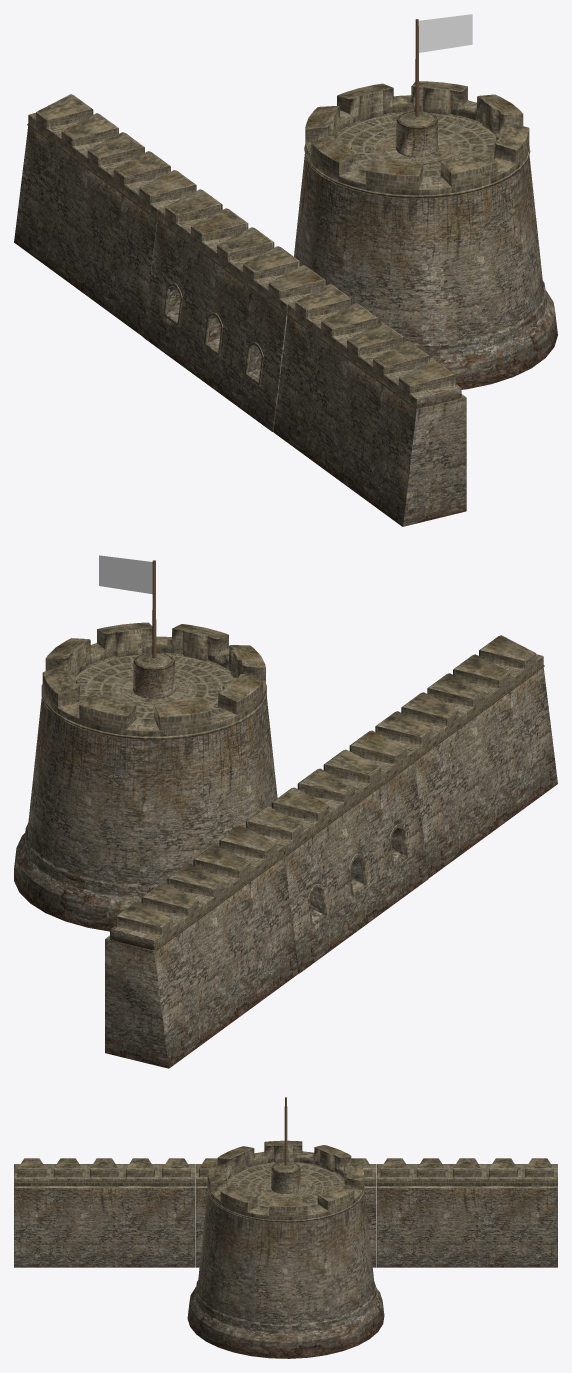
The model's file is keep_stone_01.glb.
3 renders of one model, top to bottom at view 1: azimuth 30°, elevation 25°; view 2: azimuth 150°, elevation 25°; view 3: azimuth 270°, elevation 25°, orthographic. The views are drawn at different scales.
Visible parts, largest first — view 1: keep_stone_01; view 2: keep_stone_01; view 3: keep_stone_01.
Part boxes in pixels (x1,y1,x2,y2): keep_stone_01: [14, 14, 557, 526]; keep_stone_01: [14, 555, 557, 1068]; keep_stone_01: [14, 1097, 557, 1358].
Bounding box in the file's own units: 10.77 × 9.75 × 21.88.
Materials: 4 (2 with a texture image).
